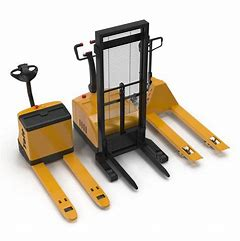Pallet Jack: (71, 18, 171, 190), (9, 62, 111, 222), (137, 37, 230, 164)
